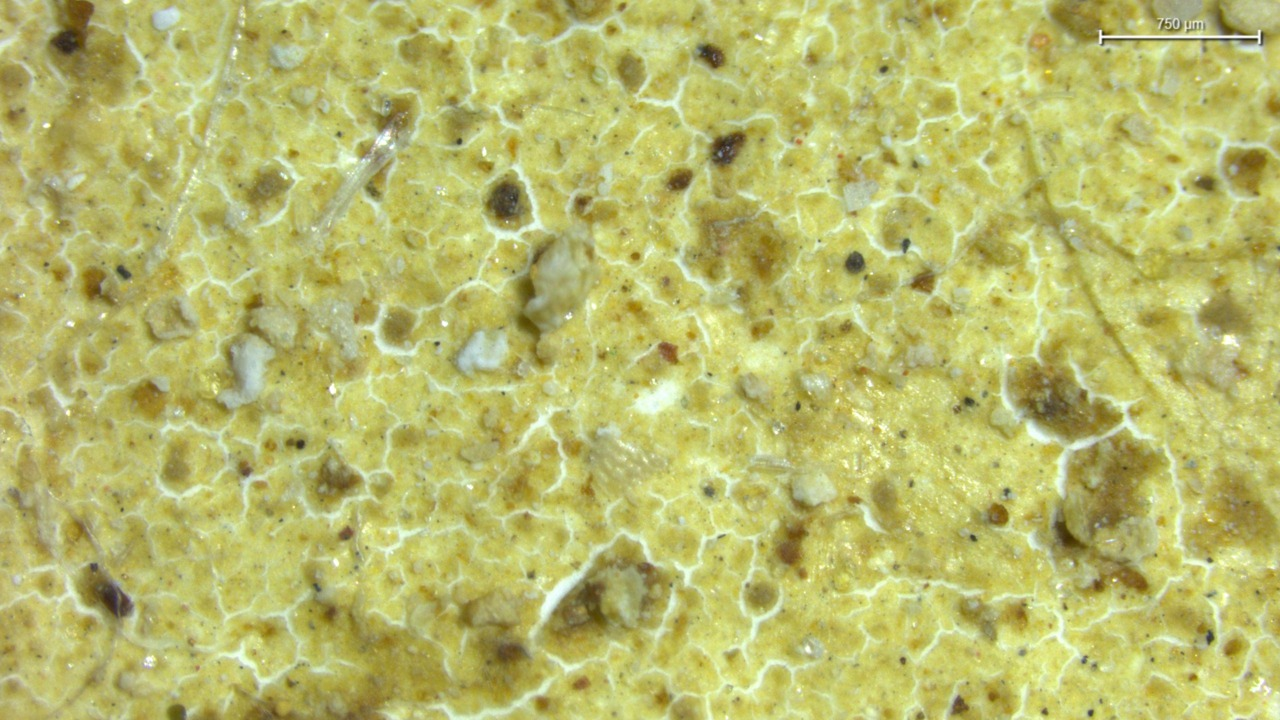microplastic_fragment: (524, 224, 598, 333), (217, 334, 275, 410), (791, 471, 837, 507)
